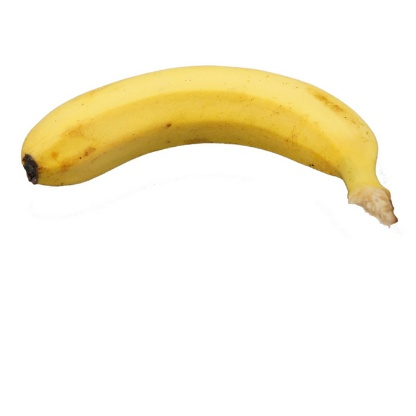chuoi: (18, 60, 404, 249)
